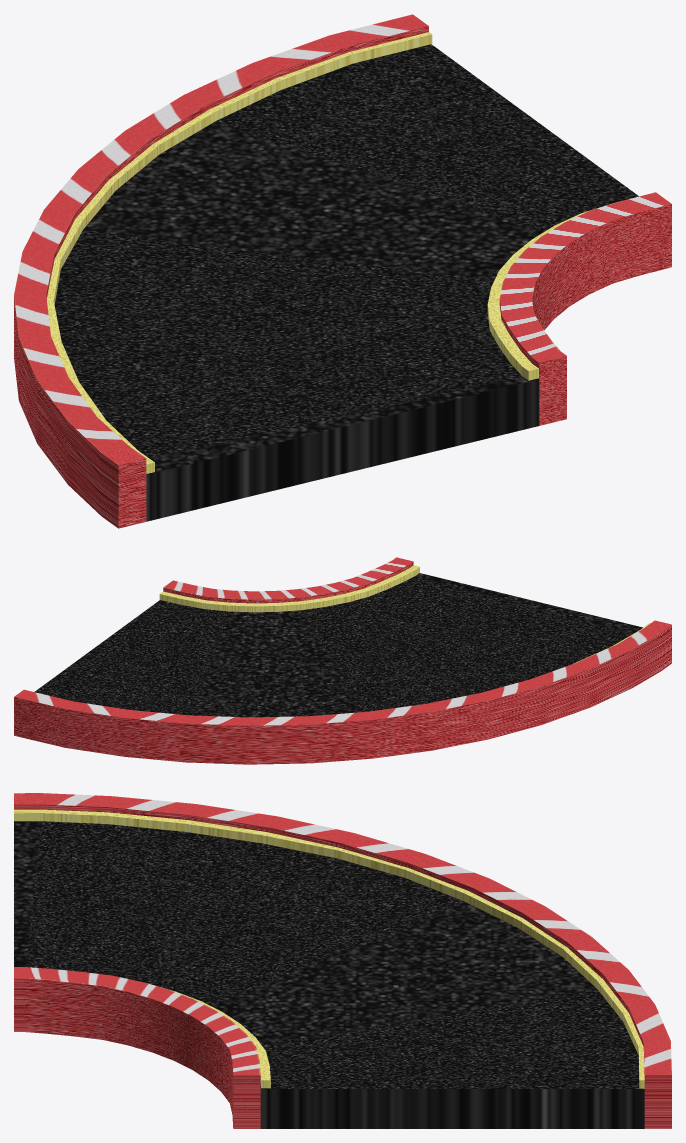
Rendered from Track - Curve.fbx.
3 views of the same model, one above another, from view 1: azimuth 30°, elevation 25°; view 2: azimuth 150°, elevation 25°; view 3: azimuth 270°, elevation 25° (orthographic). The views are drawn at different scales.
Parts seen in each view (by area): view 1: Track - Curve piece; view 2: Track - Curve piece; view 3: Track - Curve piece.
Part boxes in pixels (box(x1,y1,x2,y2)): Track - Curve piece: box(14, 14, 671, 528); Track - Curve piece: box(14, 557, 671, 764); Track - Curve piece: box(14, 793, 671, 1128).
Bounding box in the file's own units: 76.13 × 6.73 × 74.99.
1 material, 1 textured.
